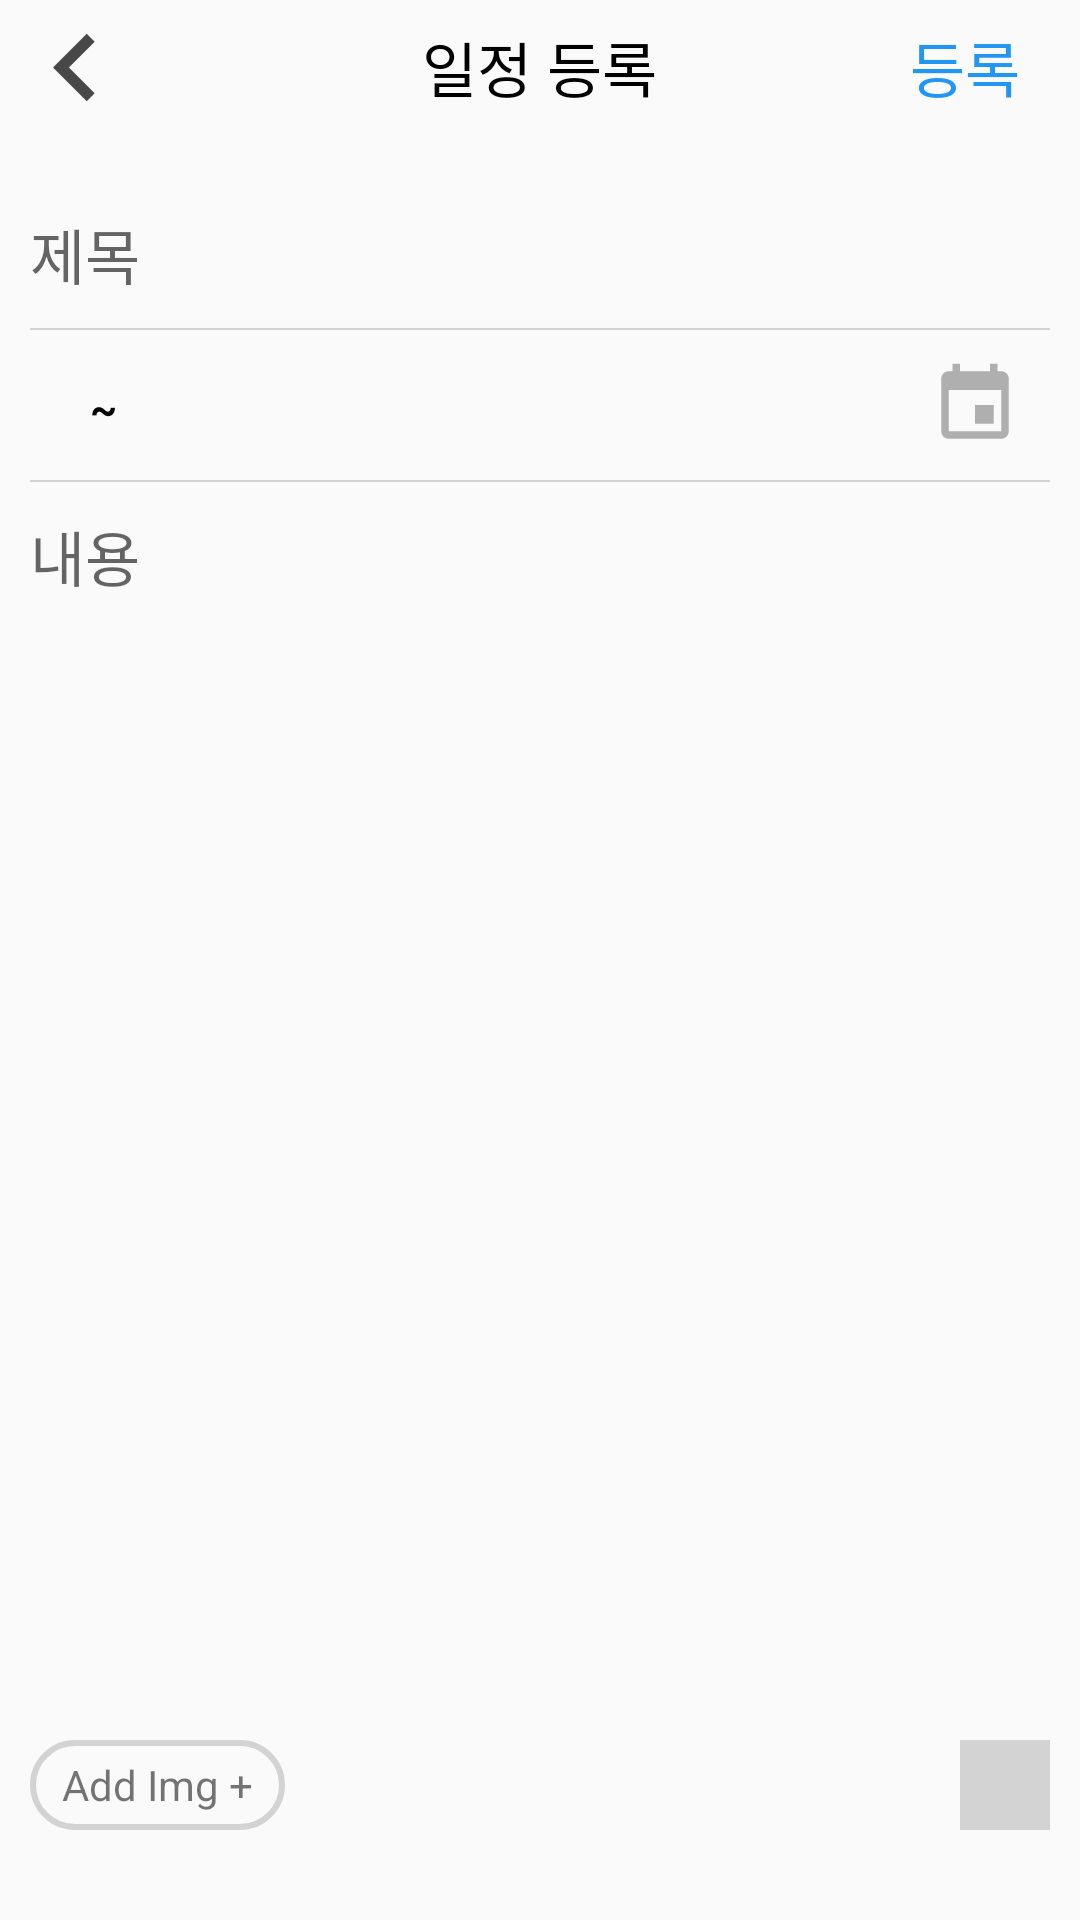

Named icons in this screenshot (1080px x 1920px) and their bounding boxes, detection(x1, y1, x2, y2):
날짜 변경: detection(941, 364, 1009, 439)
뒤로: detection(53, 34, 95, 101)
